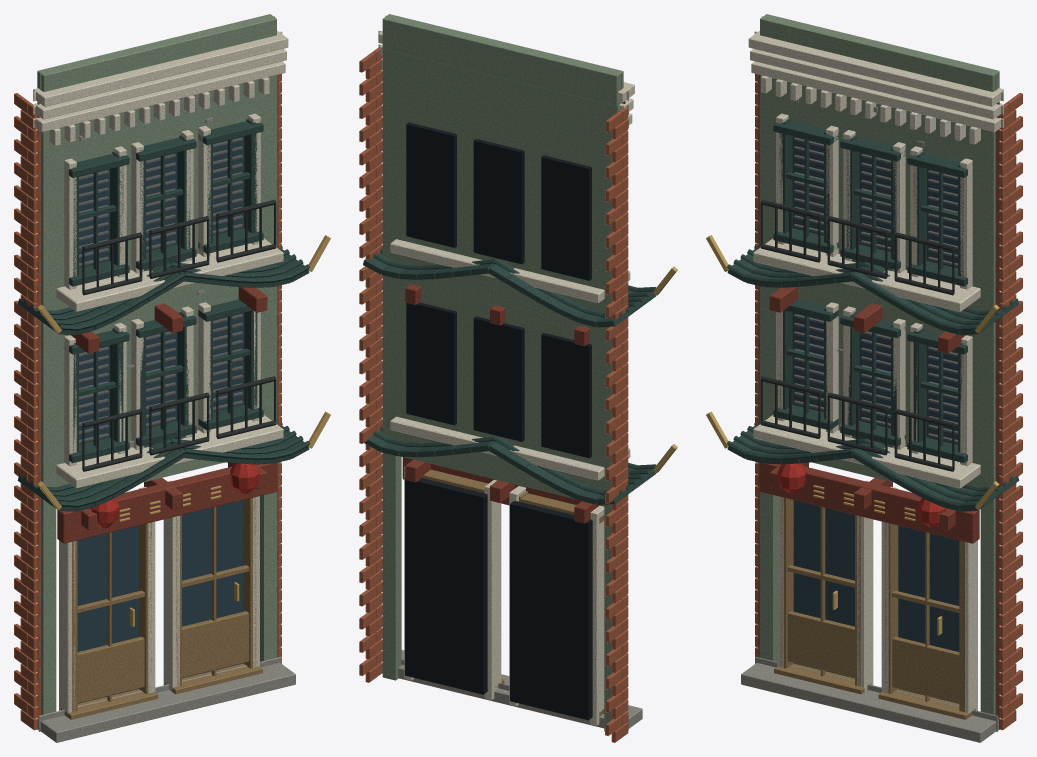
The model's file is CHINA14_lod0.glb.
The picture shows the model from 3 angles, left to right: view 1: azimuth 30°, elevation 25°; view 2: azimuth 150°, elevation 25°; view 3: azimuth 330°, elevation 25°; orthographic projection.
Visible parts, largest first — view 1: CHINA14_FRONT_LOD0; view 2: CHINA14_FRONT_LOD0; view 3: CHINA14_FRONT_LOD0.
Part boxes in pixels (x1,y1,x2,y2): CHINA14_FRONT_LOD0: [14, 14, 330, 742]; CHINA14_FRONT_LOD0: [359, 14, 677, 742]; CHINA14_FRONT_LOD0: [706, 14, 1022, 742].
Bounding box in the file's own units: 4.49 × 9.66 × 1.27.
16 materials, 13 textured.
